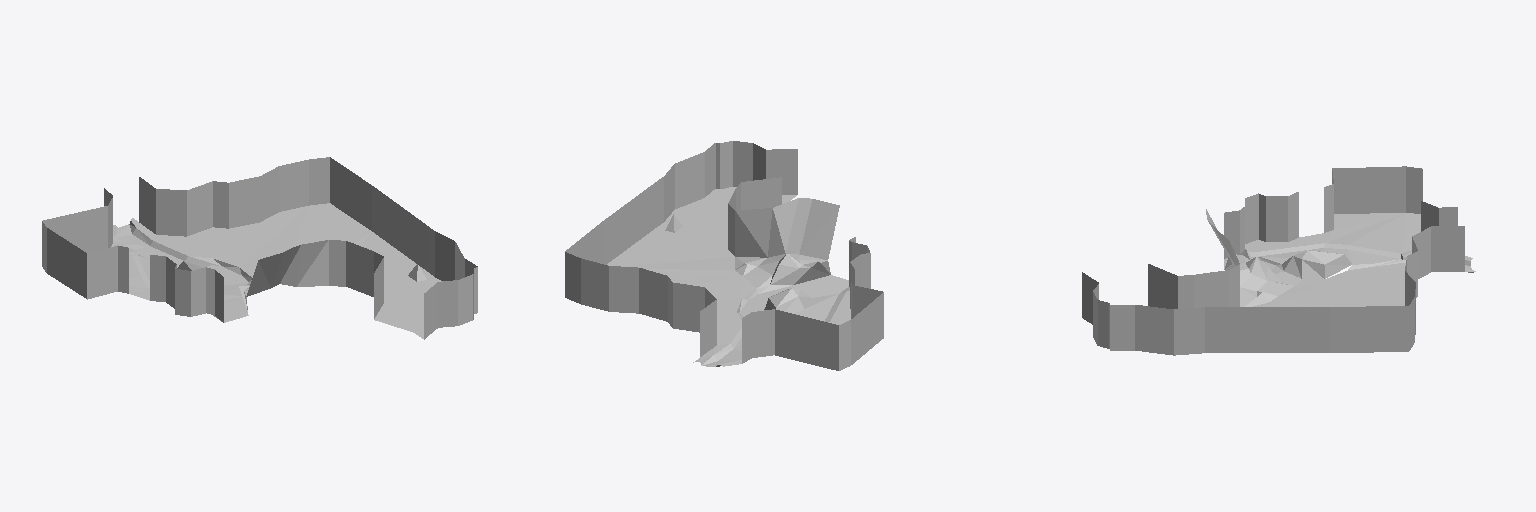
File: terrain_collide.obj
3 renders of one model, left to right at view 1: azimuth 30°, elevation 25°; view 2: azimuth 150°, elevation 25°; view 3: azimuth 270°, elevation 25°, orthographic.
Parts seen in each view (by area): view 1: Plane_Plane.002; view 2: Plane_Plane.002; view 3: Plane_Plane.002.
Part boxes in pixels (bbox=[...]): Plane_Plane.002: bbox=[42, 157, 477, 339]; Plane_Plane.002: bbox=[565, 141, 883, 370]; Plane_Plane.002: bbox=[1082, 166, 1475, 355].
Bounding box in the file's own units: 42.39 × 9.04 × 49.67.